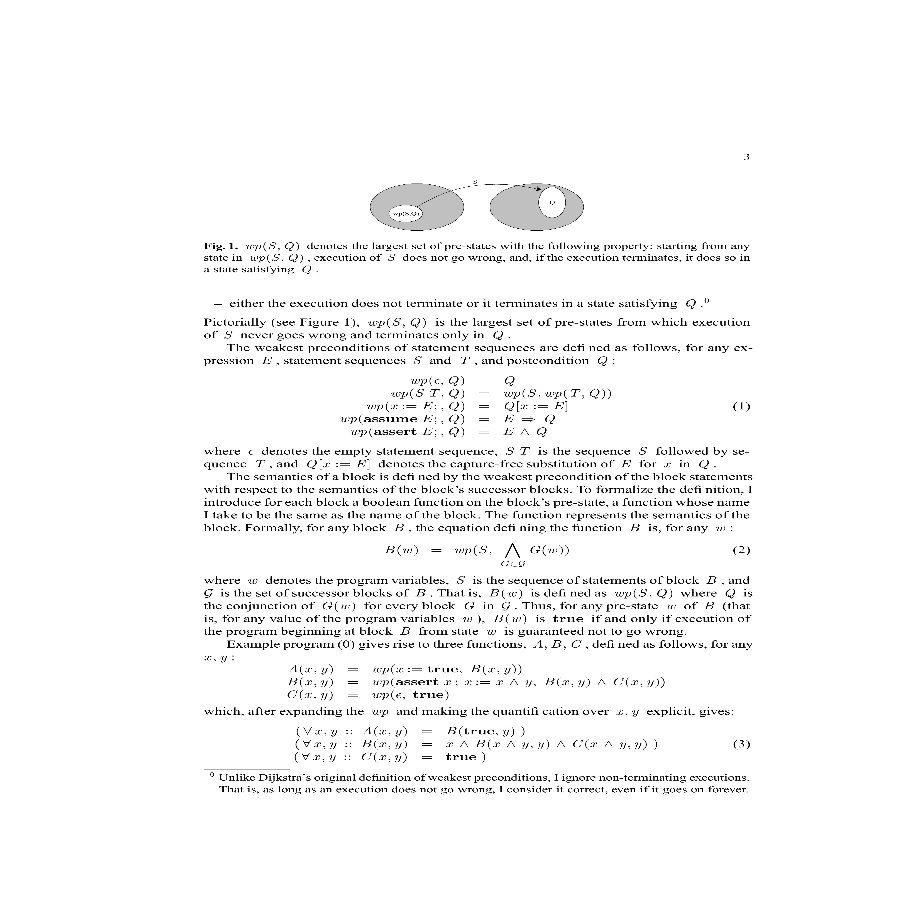eq: (384, 541, 573, 568), (294, 738, 659, 751), (289, 678, 669, 690), (293, 722, 527, 739), (289, 664, 525, 677), (391, 388, 613, 401), (364, 402, 570, 414), (351, 427, 550, 438), (340, 415, 558, 425), (294, 752, 487, 763), (286, 691, 450, 702), (410, 373, 517, 386)
